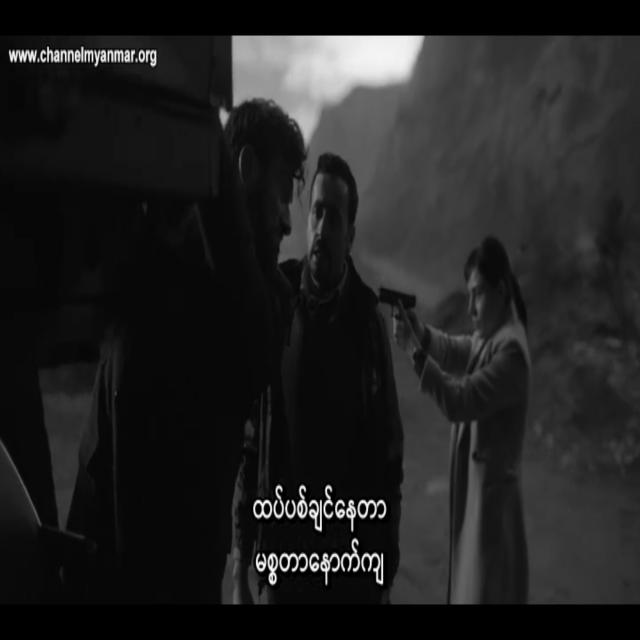gun: (378, 286, 416, 318)
